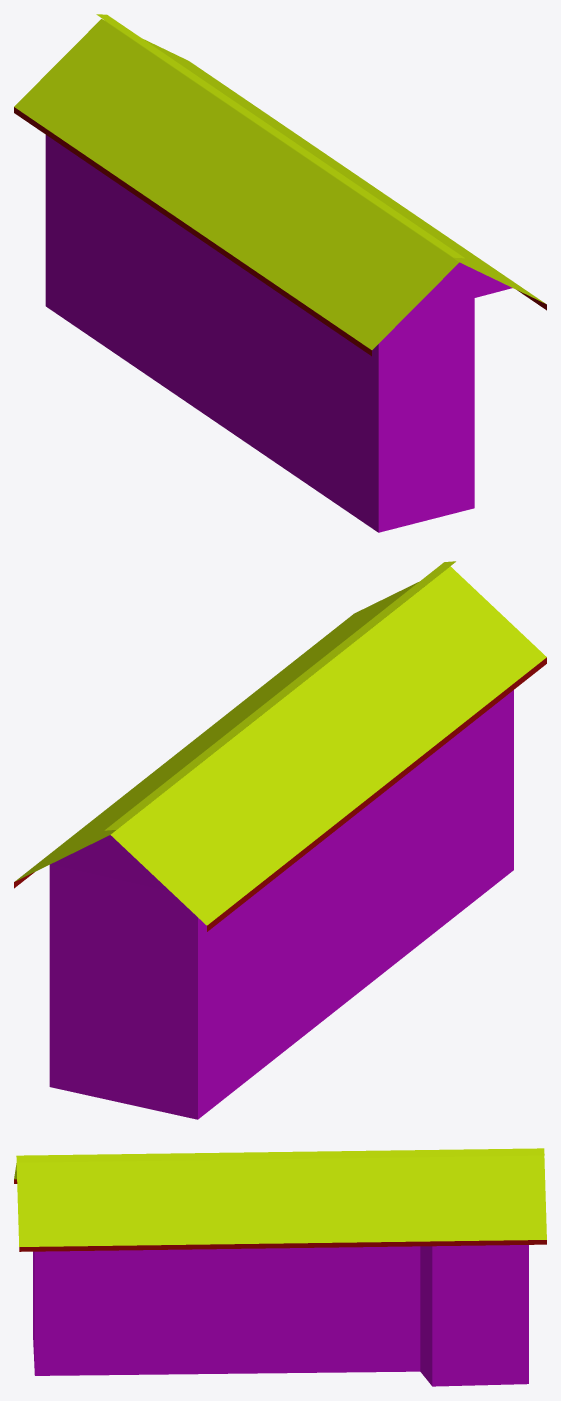
File: ces_47.glb
The picture shows the model from 3 angles, top to bottom: view 1: azimuth 30°, elevation 25°; view 2: azimuth 150°, elevation 25°; view 3: azimuth 270°, elevation 25°; orthographic projection. The views are drawn at different scales.
Visible parts, largest first — view 1: ces_47; view 2: ces_47; view 3: ces_47.
Boxes of the visible parts, x1,y1,x2,y2 form: ces_47: (14, 14, 546, 532); ces_47: (14, 561, 546, 1119); ces_47: (14, 1148, 546, 1386).
Size of the model in its own units: 4.05 by 5.25 by 12.19.
